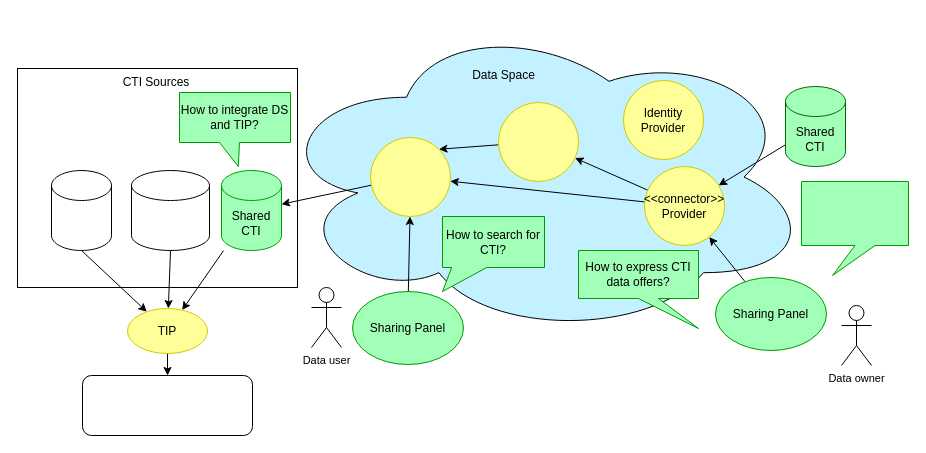
Image size: 926x453. Some labels were removed from this diagram. The shapes that lost their labels are listed below. From the top down, each one's centre as x and y in pixels, then its label:
At [538,142]: "<<connector>> Catalog".
At [410,176]: "<<connector>> Consumer".
At [81,210]: "Other CTI Sources".
At [170,210]: "Open-Source CTI".
At [854,228]: "How to express CTI usage policies?".
At [167,405]: "Security Tools: SIEM / Firewall / IPS / SOAR".
